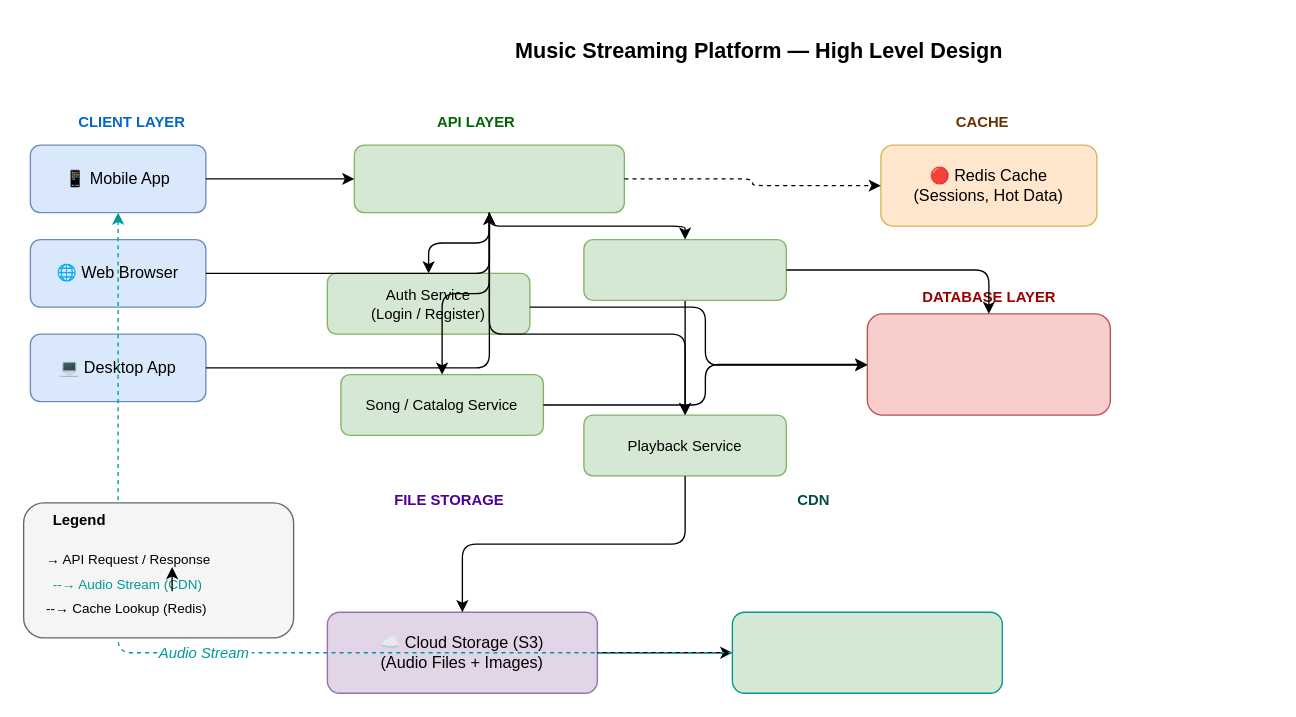
Image size: 1296x717. Some labels were removed from this diagram. The centre of each missing label's shape, as x and y in pixels:
API Gateway (Authentication + Routing): point (488, 178)
Playlist Service: point (684, 269)
🌍 CDN (CloudFront) (Fast Audio Delivery to Users Globally): point (866, 652)
🗄️ PostgreSQL (Users, Playlists, Songs metadata): point (988, 364)
